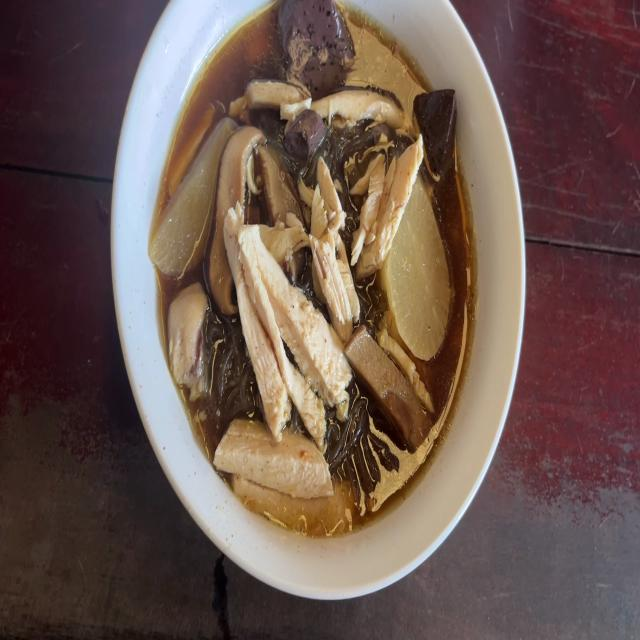boiled_chicken_blood_jelly: (274, 0, 353, 89), (413, 84, 455, 166)
chicken_shredded: (235, 221, 334, 426), (209, 415, 339, 530), (238, 76, 399, 121), (359, 136, 417, 260), (314, 171, 357, 335), (167, 288, 211, 378)
daikon_radish: (157, 118, 222, 269), (394, 215, 453, 350)
noodle: (160, 8, 464, 527)
